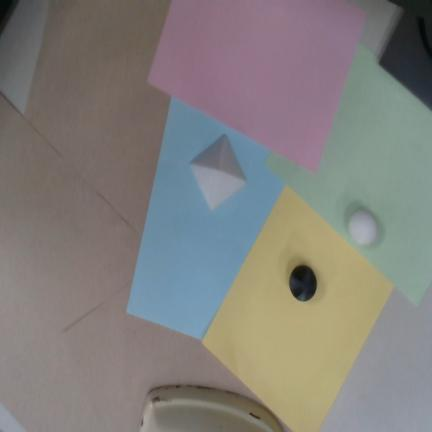Esfera: (348, 210, 378, 246), (289, 265, 317, 302)
Piramide: (190, 133, 248, 212)
